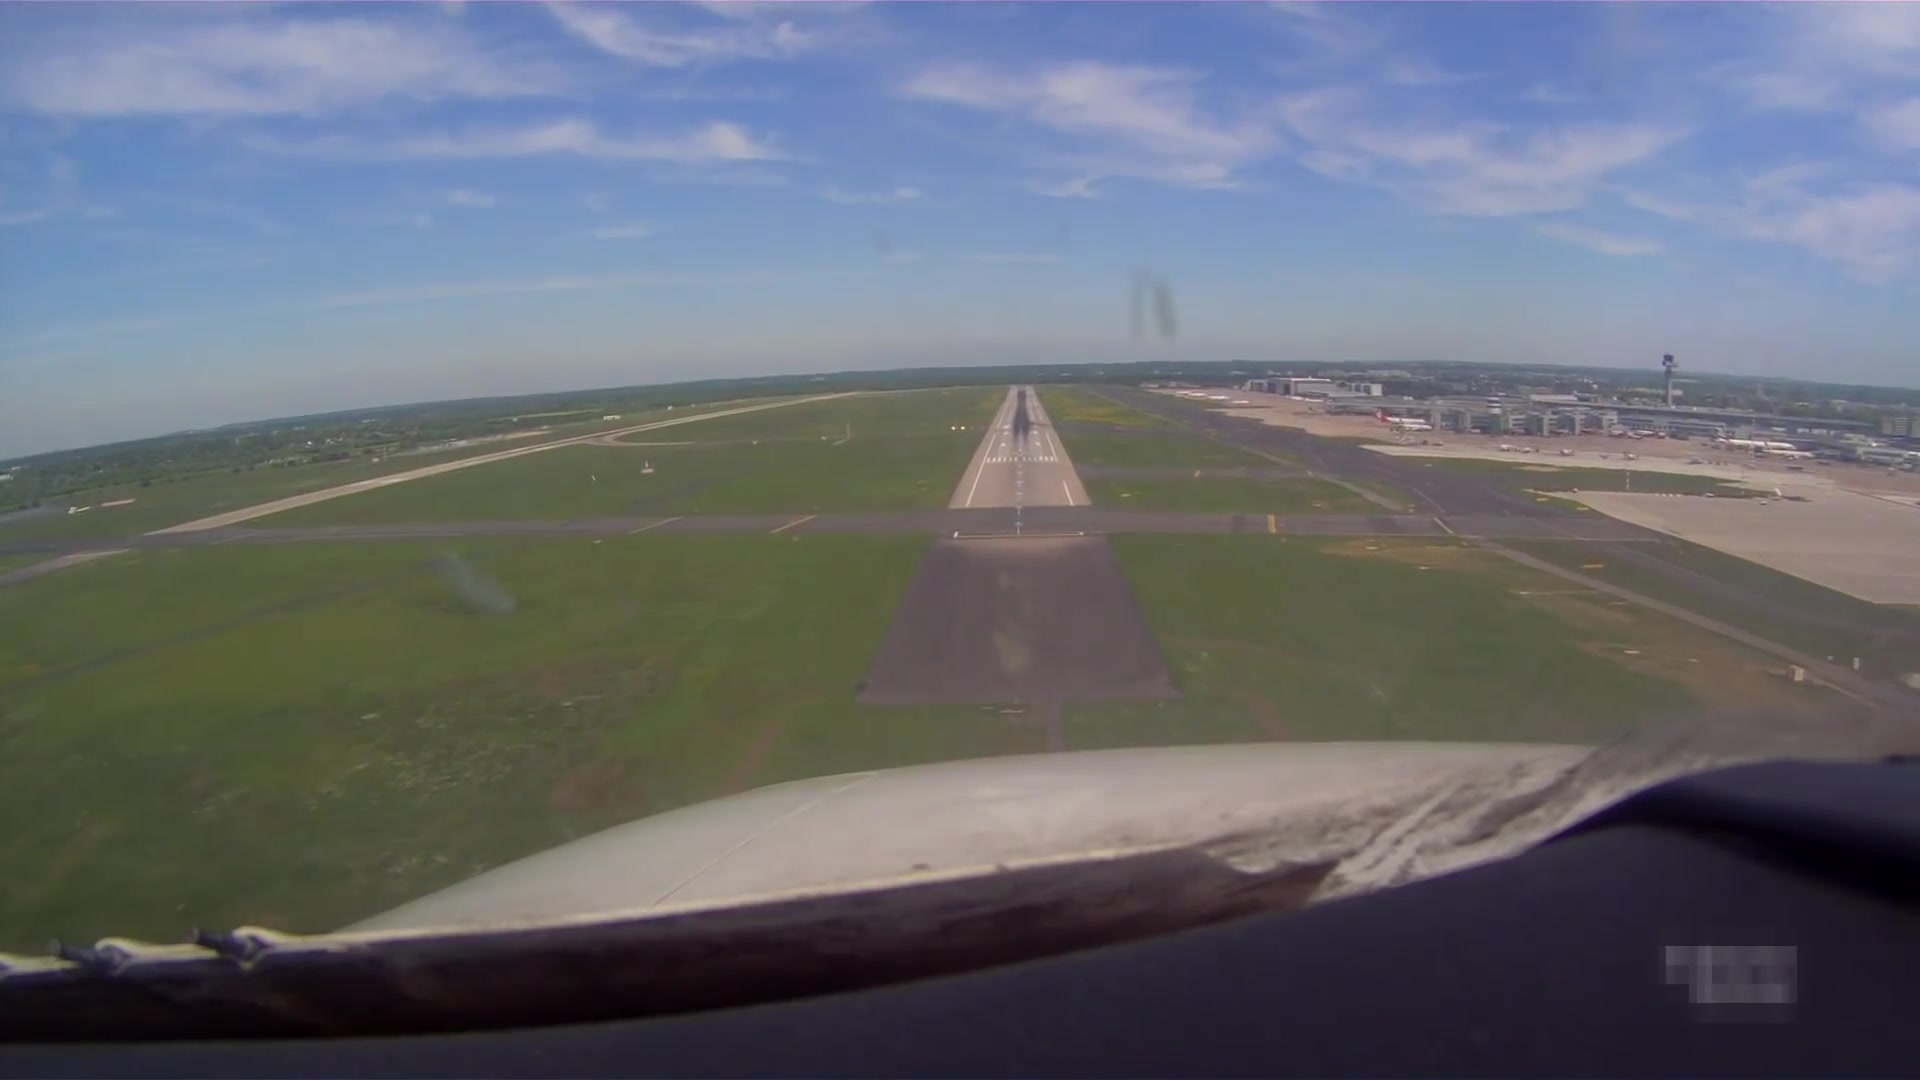entrance: (982, 454, 1058, 465)
runway: (952, 385, 1091, 506)
